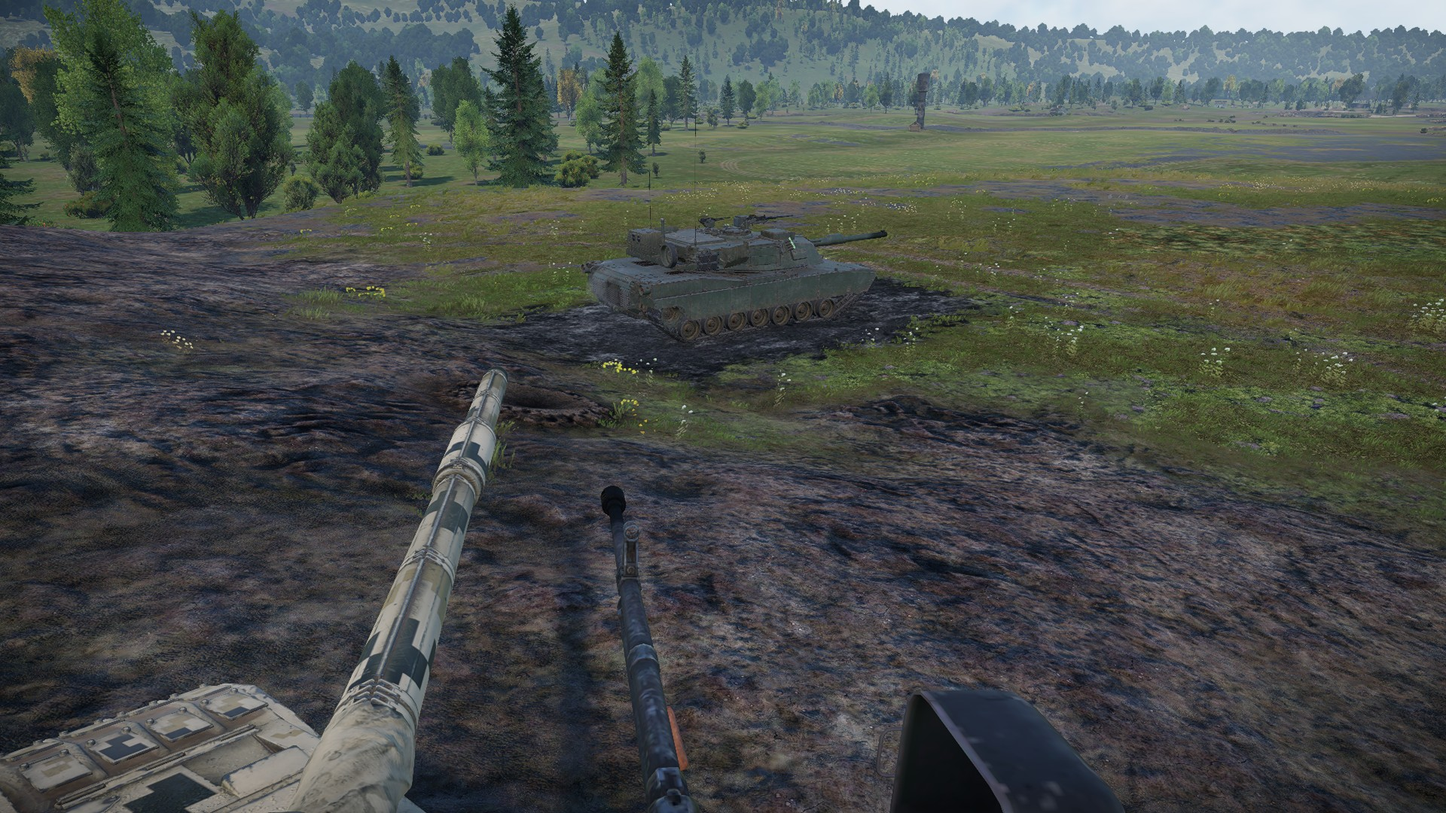abrams: (582, 213, 887, 342)
